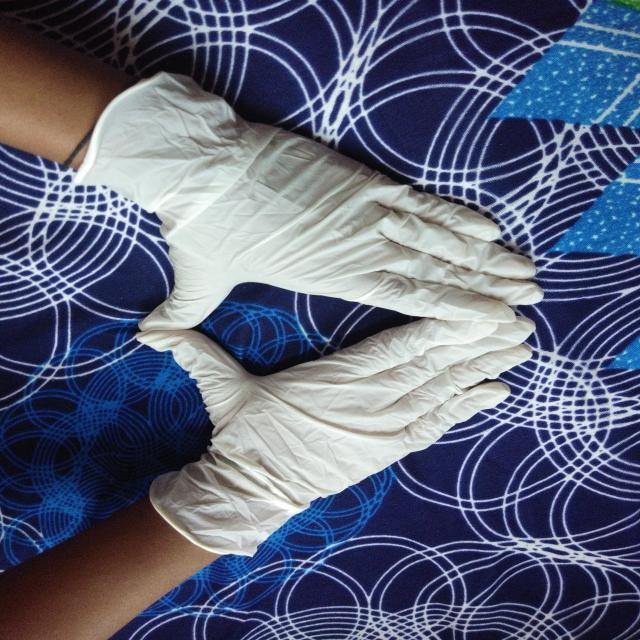gloved_hand: (60, 66, 546, 355), (107, 314, 539, 570)
